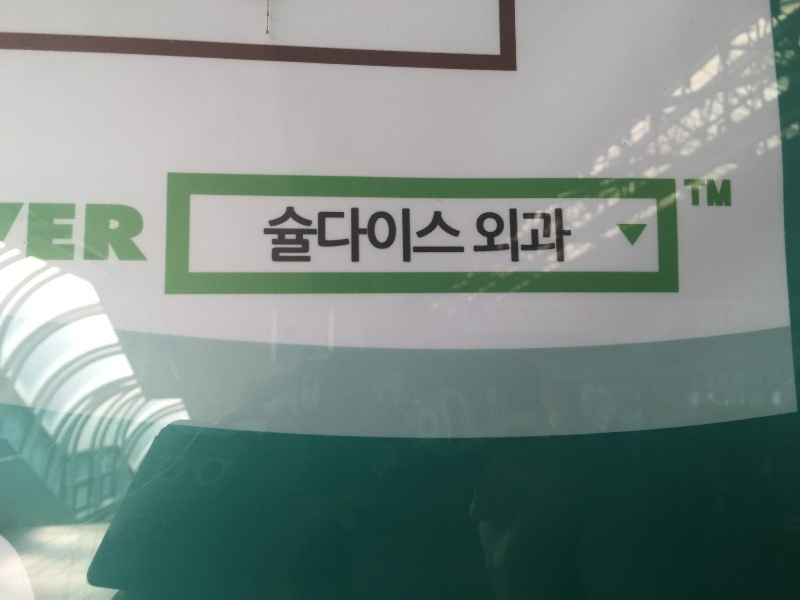text: (33, 201, 48, 268), (49, 201, 64, 268), (65, 201, 80, 268), (81, 201, 96, 268), (97, 201, 112, 268), (113, 201, 128, 268), (129, 201, 144, 268), (273, 205, 288, 266), (289, 205, 304, 266), (305, 205, 320, 266), (321, 205, 336, 266), (337, 205, 352, 266), (353, 205, 368, 266), (369, 205, 384, 266), (385, 205, 400, 266), (401, 205, 416, 266), (417, 205, 432, 266), (433, 205, 448, 266), (449, 205, 464, 266), (465, 205, 480, 266), (481, 205, 496, 266), (497, 205, 512, 266), (513, 205, 528, 266), (529, 205, 544, 266), (545, 205, 560, 266), (561, 205, 576, 266), (262, 205, 272, 266), (689, 175, 704, 215), (705, 175, 720, 215), (721, 175, 734, 215), (25, 201, 32, 268), (145, 201, 151, 268), (682, 175, 688, 215)
